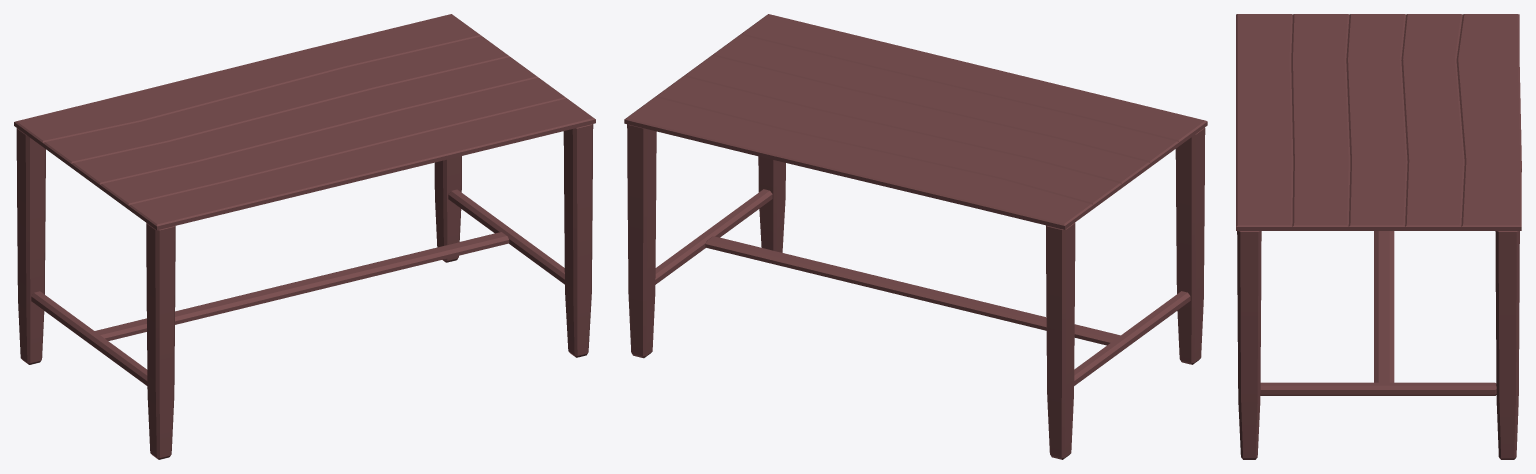
The model's file is table_a002.glb.
3 renders of one model, left to right at view 1: azimuth 30°, elevation 25°; view 2: azimuth 150°, elevation 25°; view 3: azimuth 270°, elevation 25°, orthographic.
Parts seen in each view (by area): view 1: table_a002; view 2: table_a002; view 3: table_a002.
Boxes of the visible parts, x1,y1,x2,y2 form: table_a002: [14, 14, 595, 459]; table_a002: [624, 14, 1207, 459]; table_a002: [1236, 14, 1521, 459].
Bounding box in the file's own units: 1.24 × 0.6416 × 0.7021.
1 material, 1 textured.
